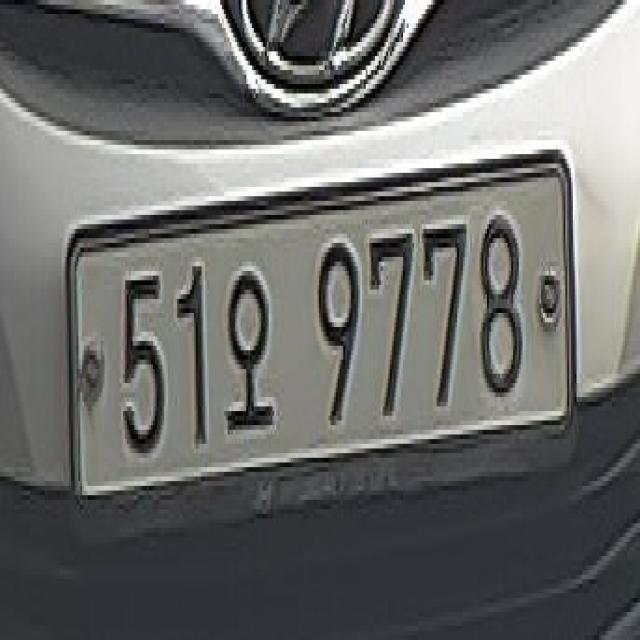1: (172, 247, 215, 477)
5: (115, 258, 166, 486)
7: (420, 208, 470, 436), (366, 216, 416, 442)
8: (473, 202, 528, 426)
9: (314, 212, 364, 465)
license_plate: (62, 120, 592, 565)
o: (222, 243, 280, 448)
